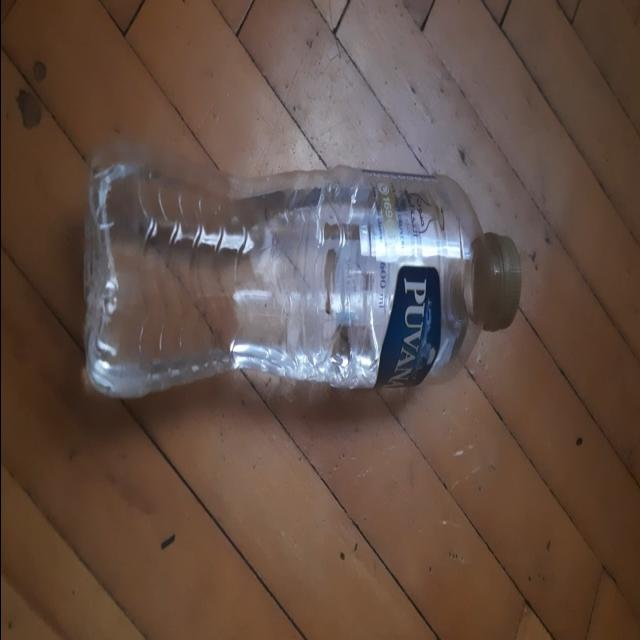Plastic: (80, 160, 520, 400)
